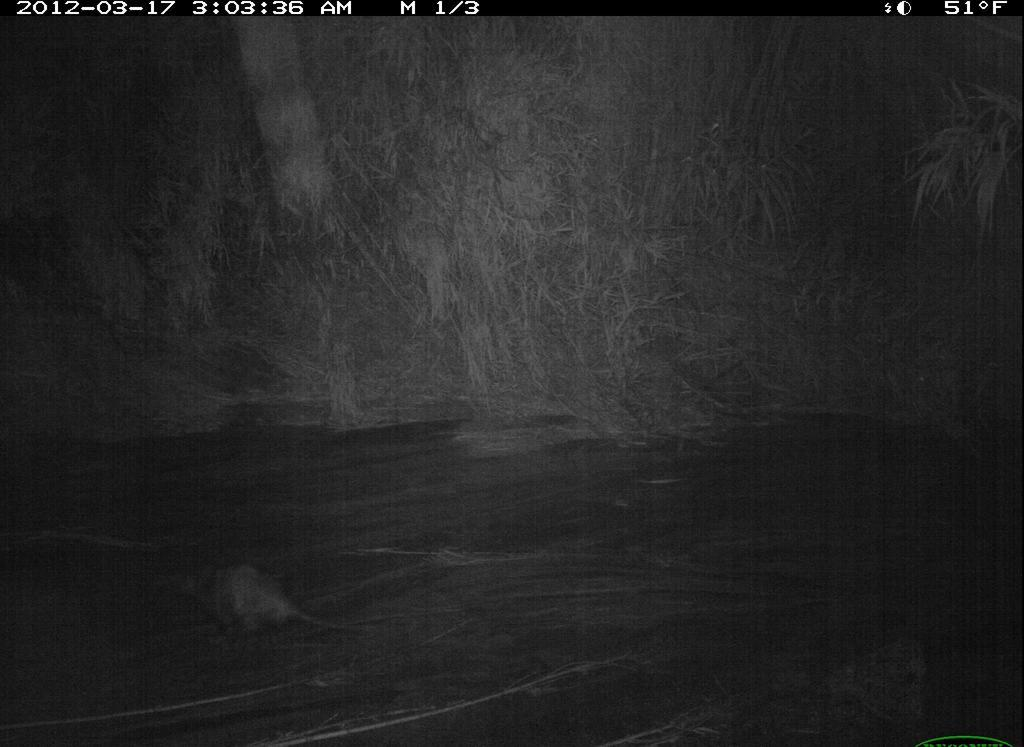opossum: (171, 546, 399, 656)
